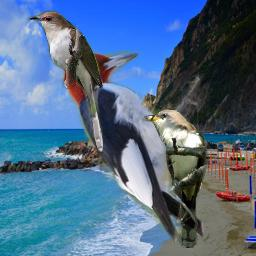Cuckoo: (27, 10, 104, 153), (142, 109, 209, 248)
Woodpecker: (59, 45, 211, 244)
